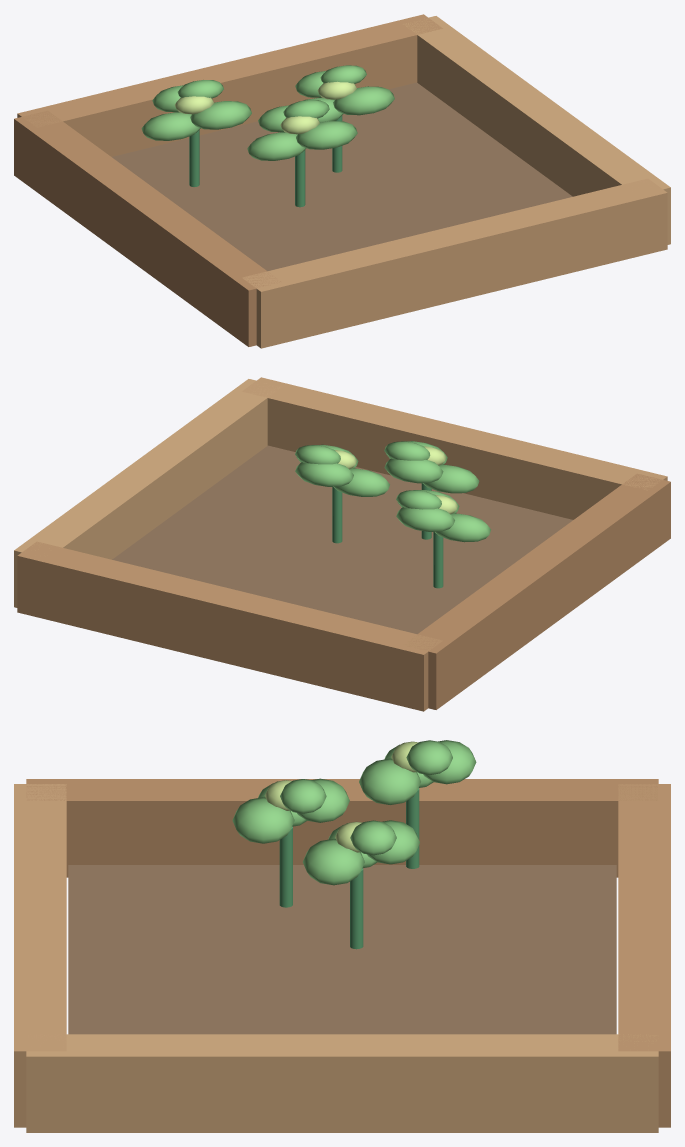
File: crop_root_early.glb
3 renders of one model, top to bottom at view 1: azimuth 30°, elevation 25°; view 2: azimuth 150°, elevation 25°; view 3: azimuth 270°, elevation 25°, orthographic. The views are drawn at different scales.
Size of the model in its own units: 0.935 by 0.2892 by 0.935.
